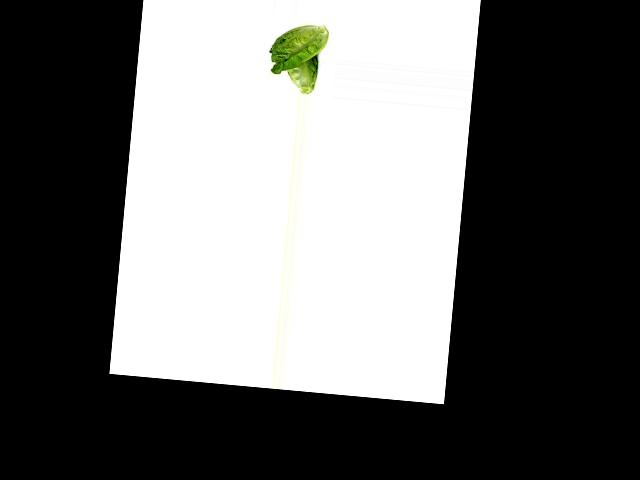lettuce: (283, 52, 322, 96)
